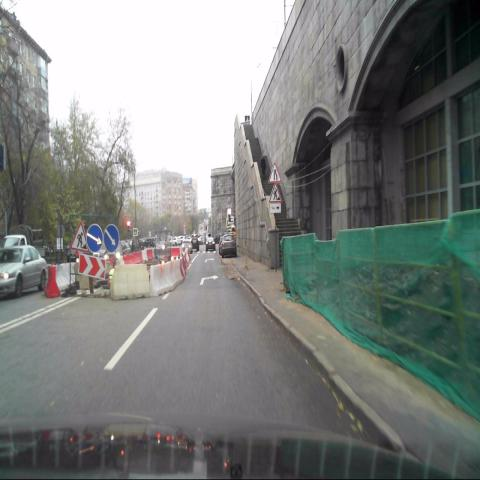1_20_2: (268, 163, 282, 183)
4_2_1: (86, 223, 103, 253)
